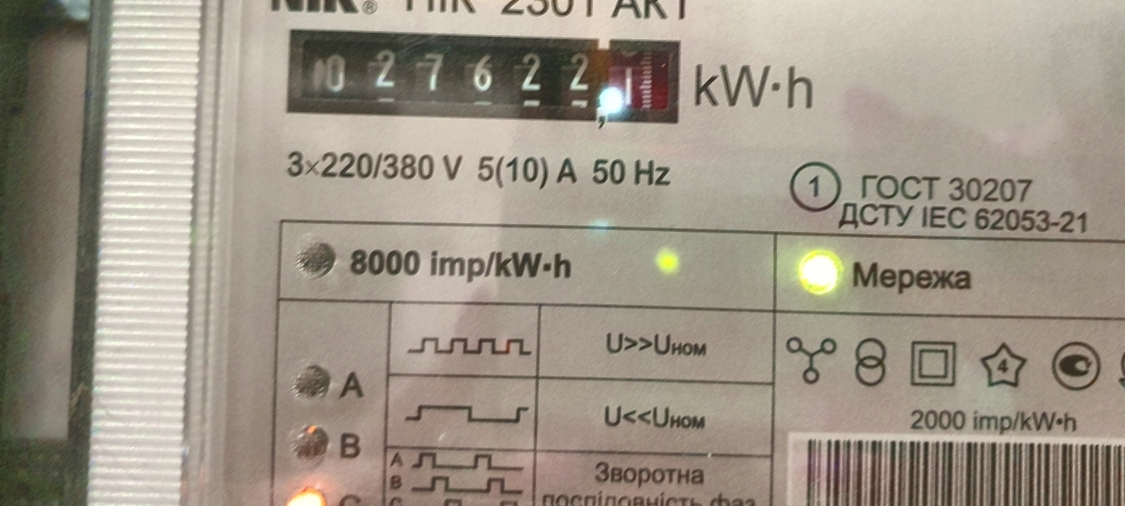0: (323, 50, 349, 94)
1: (620, 64, 638, 107)
2: (518, 50, 545, 92), (374, 47, 398, 90), (568, 50, 592, 92)
6: (471, 51, 495, 93)
7: (422, 50, 447, 94)
screen: (274, 14, 696, 136)
